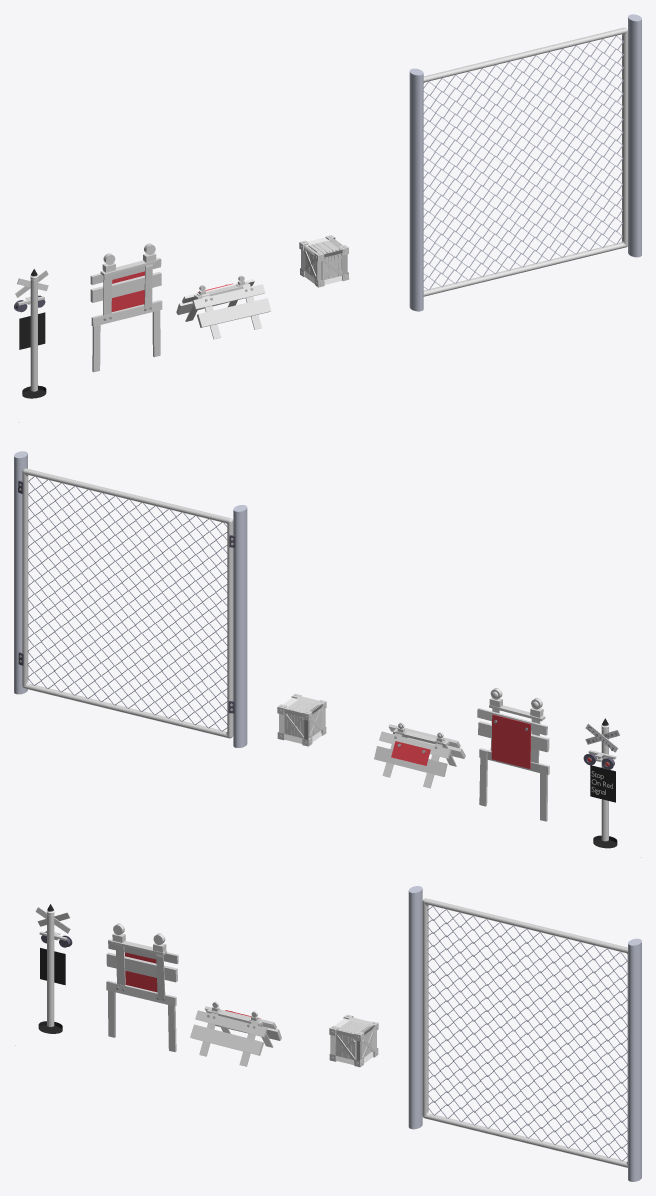
File: Railroad_sign.fbx
3 renders of one model, top to bottom at view 1: azimuth 30°, elevation 25°; view 2: azimuth 150°, elevation 25°; view 3: azimuth 330°, elevation 25°, orthographic.
Parts seen in each view (by area): view 1: Fence lining, Fence_cover, Fence_suppot_2, Fence_support_1, Cube.034, Cube.021, Barricade_lower_plank_back, Middle plank, Barricade_upper_plank_back, Bottom_plank, Sign; view 2: Fence lining, Fence_cover, Fence_suppot_2, Cube.034, Fence_support_1, Cube.021, Sign, Barricade_lower_plank_front, Barricade_sign_front, Barricade_upper_plank_front; view 3: Fence lining, Fence_cover, Fence_suppot_2, Fence_support_1, Cube.034, Cube.021, Barricade_lower_plank_back, Middle plank, Barricade_upper_plank_back, Bottom_plank, Sign.
Boxes of the visible parts, x1,y1,x2,y2 form: Fence lining: (423, 35, 623, 289); Fence_cover: (423, 27, 627, 296); Fence_suppot_2: (409, 68, 423, 311); Fence_support_1: (628, 14, 641, 257); Cube.034: (14, 269, 48, 398); Cube.021: (299, 235, 349, 287); Barricade_lower_plank_back: (197, 298, 271, 327); Middle plank: (90, 272, 161, 302); Barricade_upper_plank_back: (192, 284, 265, 309); Bottom_plank: (91, 300, 162, 326); Sign: (111, 271, 144, 311); Fence lining: (27, 476, 227, 731); Fence_cover: (22, 468, 233, 738); Fence_suppot_2: (233, 505, 247, 747); Cube.034: (583, 718, 620, 848); Fence_support_1: (14, 451, 27, 694); Cube.021: (277, 693, 326, 746); Sign: (491, 714, 530, 768); Barricade_lower_plank_front: (374, 746, 447, 776); Barricade_sign_front: (391, 741, 430, 765); Barricade_upper_plank_front: (379, 731, 451, 758); Fence lining: (427, 906, 627, 1161); Fence_cover: (422, 898, 627, 1167); Fence_suppot_2: (408, 886, 422, 1129); Fence_support_1: (628, 938, 641, 1181); Cube.034: (35, 904, 72, 1033); Cube.021: (329, 1014, 378, 1067); Barricade_lower_plank_back: (190, 1024, 263, 1055); Middle plank: (106, 952, 177, 982); Barricade_upper_plank_back: (195, 1010, 267, 1037); Bottom_plank: (106, 980, 176, 1006); Sign: (125, 952, 157, 992).
Bounding box in the file's own units: 54143 × 20929 × 4784.
